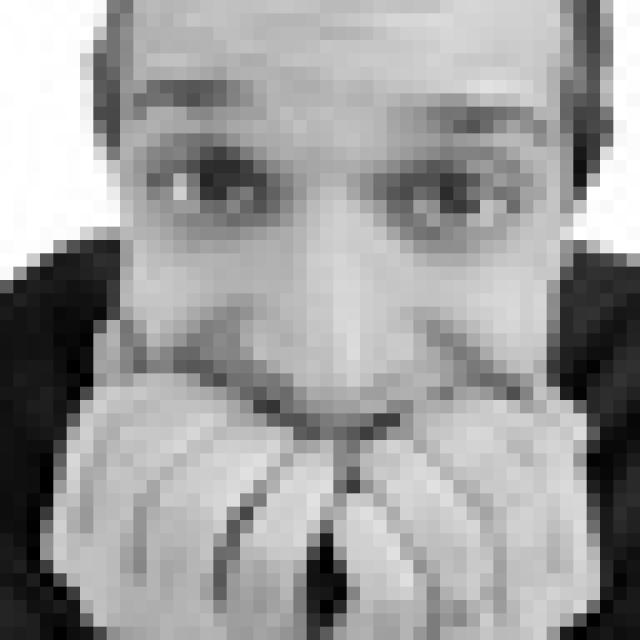fear: (132, 75, 554, 557)
